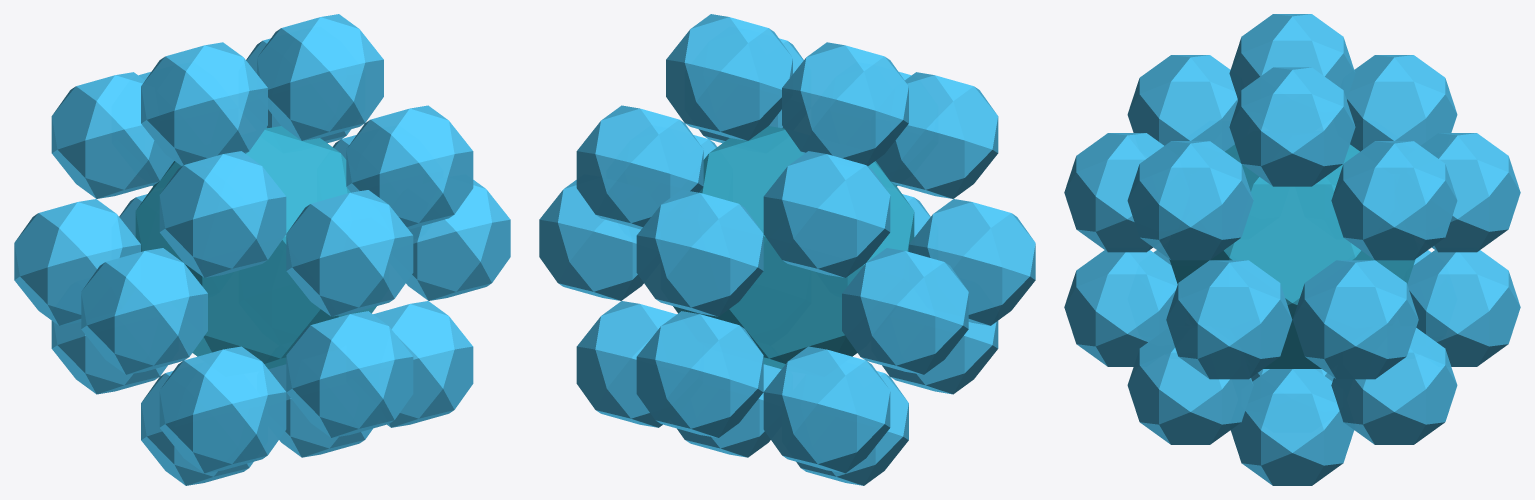
The model's file is fractalicosidodecahedron1.glb.
3 views of the same model, side by side, from view 1: azimuth 30°, elevation 25°; view 2: azimuth 150°, elevation 25°; view 3: azimuth 270°, elevation 25° (orthographic). The views are drawn at different scales.
Size of the model in its own units: 10.23 by 10.23 by 10.23.
